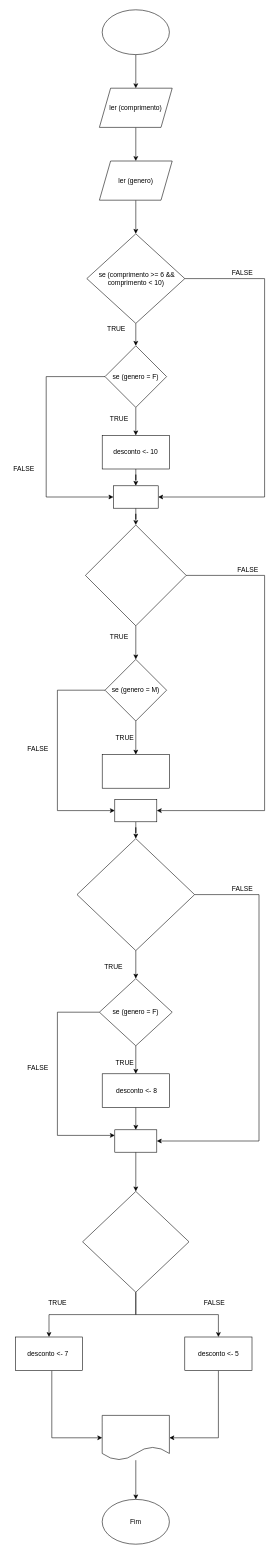
The diagram is 279 pixels wide and 1554 high, and some of its shapes have lost their labels. The shapes that lost their labels are listed below. From the top down, each one's box as (x1, y1, x2, y2) in pixels, then its label:
(102, 9, 169, 55): Inicio
(85, 524, 186, 626): se (comprimento >= 10 && comprimento < 15)
(102, 754, 169, 788): desconto <- 9
(76, 838, 195, 951): se (comprimento >= 15 && comprimento < 18)
(82, 1191, 189, 1292): se (comprimento >= 18 && comprimento < 25)
(102, 1415, 169, 1460): escrever (desconto)
